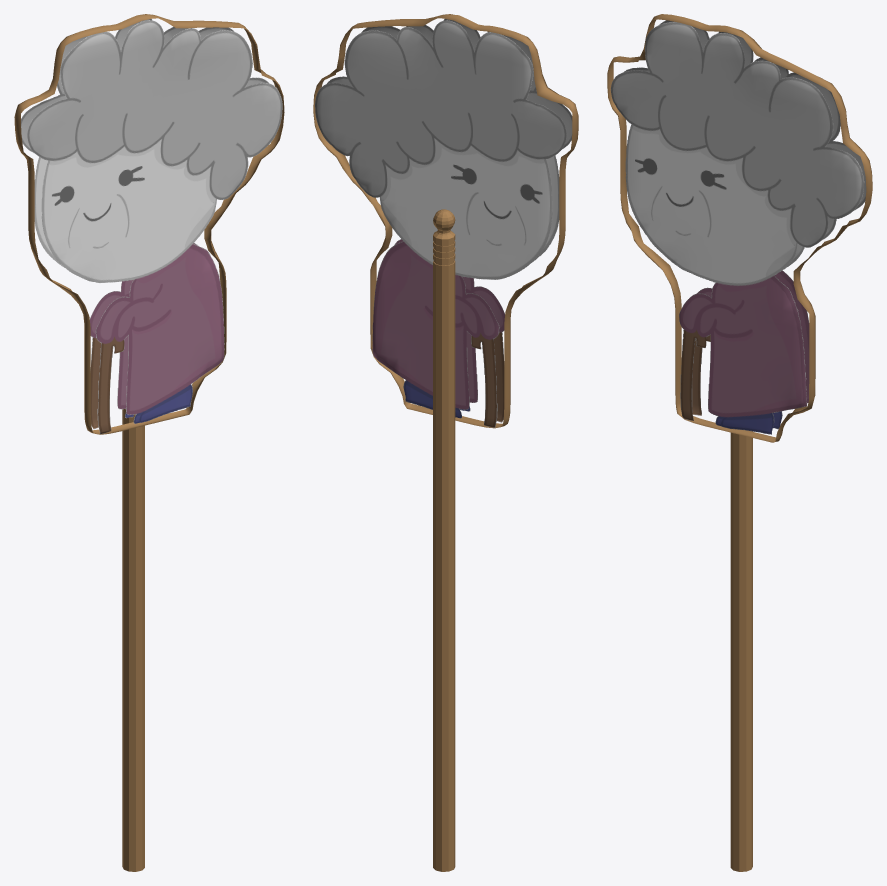
File: Escena7_Viejita.fbx
3 renders of one model, left to right at view 1: azimuth 30°, elevation 25°; view 2: azimuth 150°, elevation 25°; view 3: azimuth 330°, elevation 25°, orthographic.
Visible parts, largest first — view 1: pCube3; view 2: pCube3; view 3: pCube3.
Part boxes in pixels (x1,y1,x2,y2): pCube3: [14, 14, 284, 871]; pCube3: [313, 14, 578, 871]; pCube3: [607, 14, 872, 871].
Bounding box in the file's own units: 4.5 × 13.81 × 0.5669.
